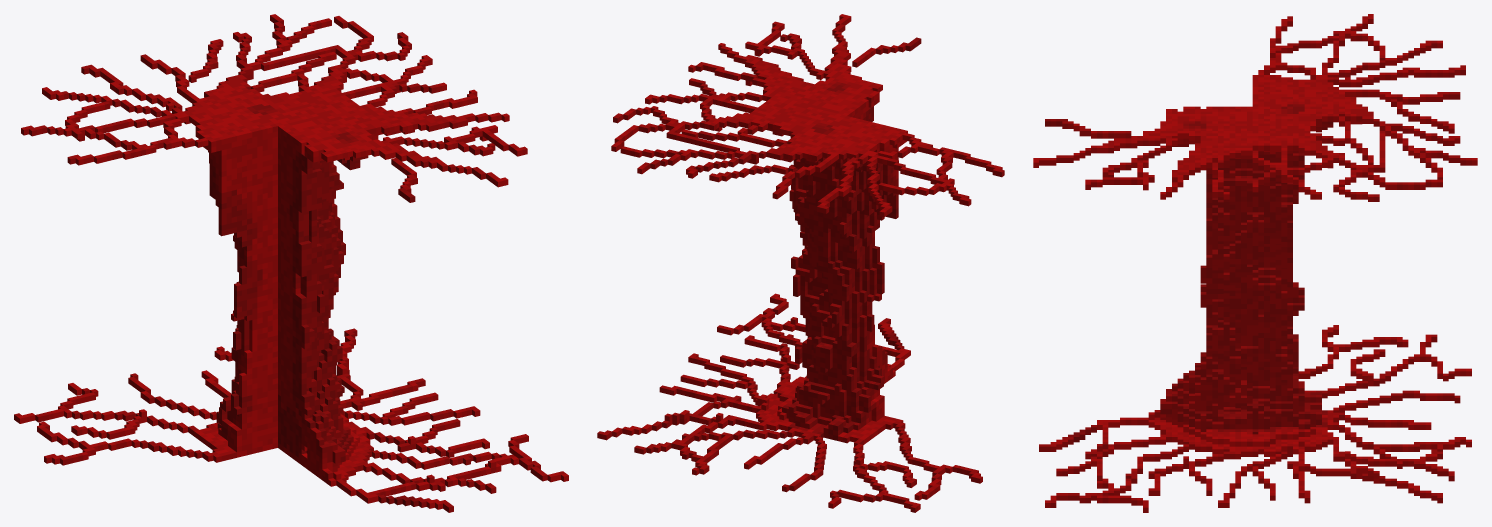
File: Bines-3.obj
3 renders of one model, left to right at view 1: azimuth 30°, elevation 25°; view 2: azimuth 150°, elevation 25°; view 3: azimuth 270°, elevation 25°, orthographic. The views are drawn at different scales.
Size of the model in its own units: 7.6 by 6 by 7.7.
Materials: 1 (1 with a texture image).
